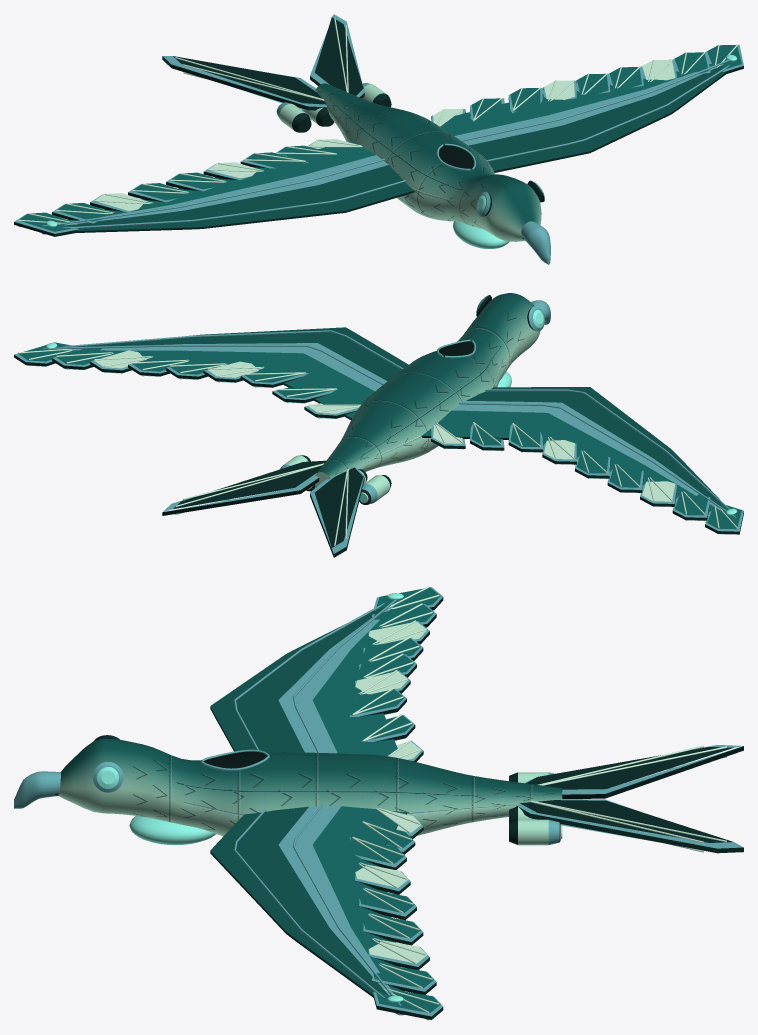
3 views of the same model, one above another, from view 1: azimuth 30°, elevation 25°; view 2: azimuth 150°, elevation 25°; view 3: azimuth 270°, elevation 25° (orthographic). The views are drawn at different scales.
Visible parts, largest first — view 1: frigatebird_hull; view 2: frigatebird_hull; view 3: frigatebird_hull.
Part boxes in pixels (x1,y1,x2,y2): frigatebird_hull: [14, 14, 743, 264]; frigatebird_hull: [14, 293, 743, 557]; frigatebird_hull: [14, 586, 743, 1020].
Bounding box in the file's own units: 272 × 29 × 195.
Materials: 1 (1 with a texture image).
